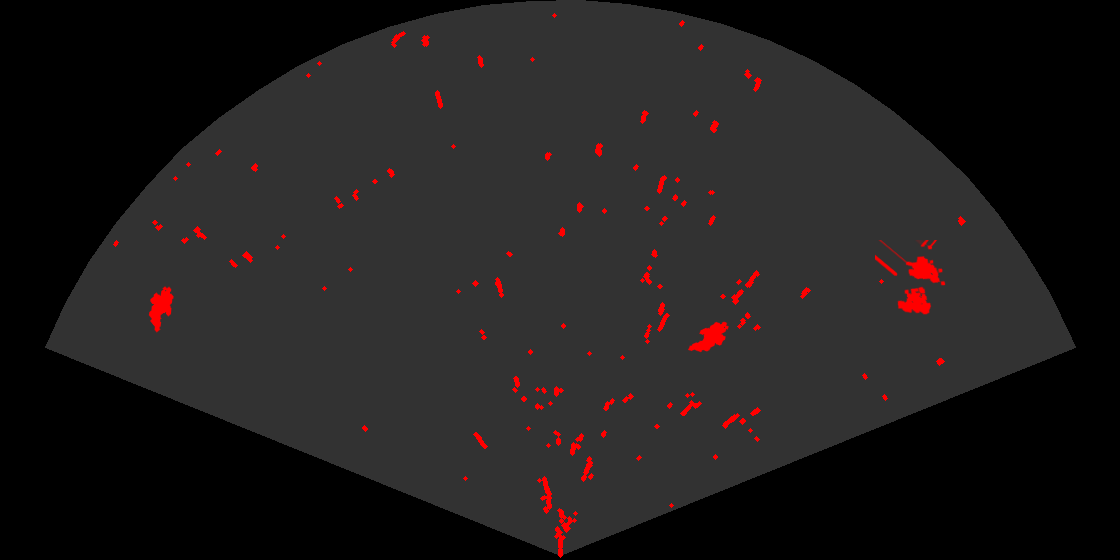AUV: (686, 320, 730, 354), (147, 285, 175, 334)
cage: (875, 240, 947, 316)
